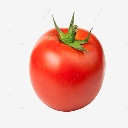tomato: (30, 24, 107, 112)
